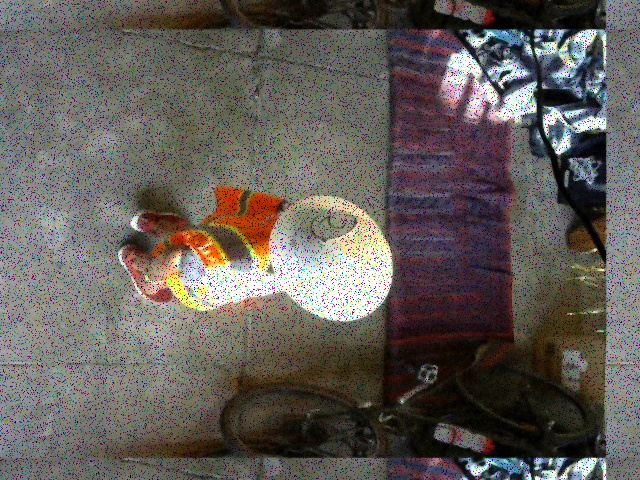two: (308, 211, 357, 240)
